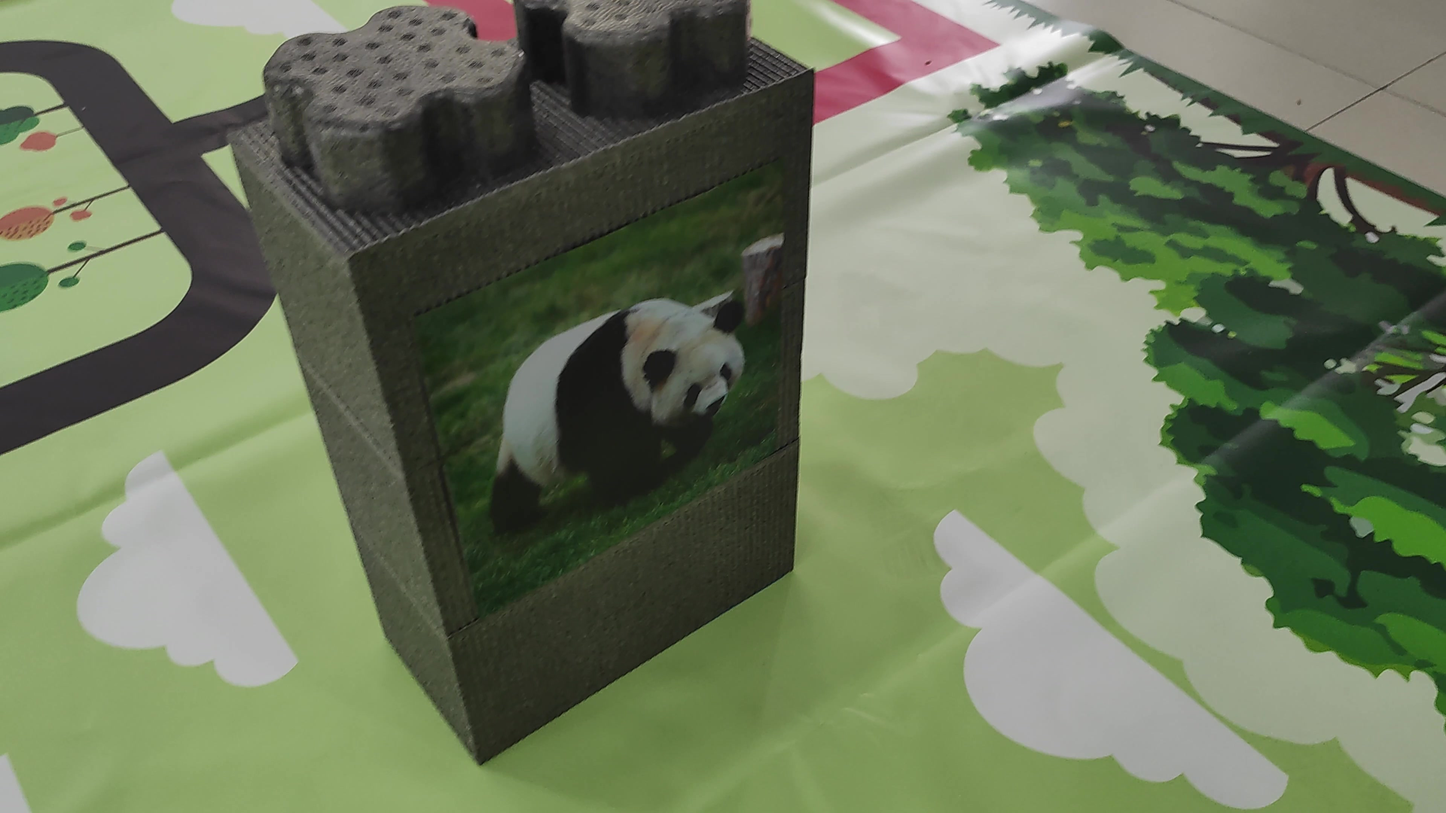panda: (463, 281, 770, 544)
